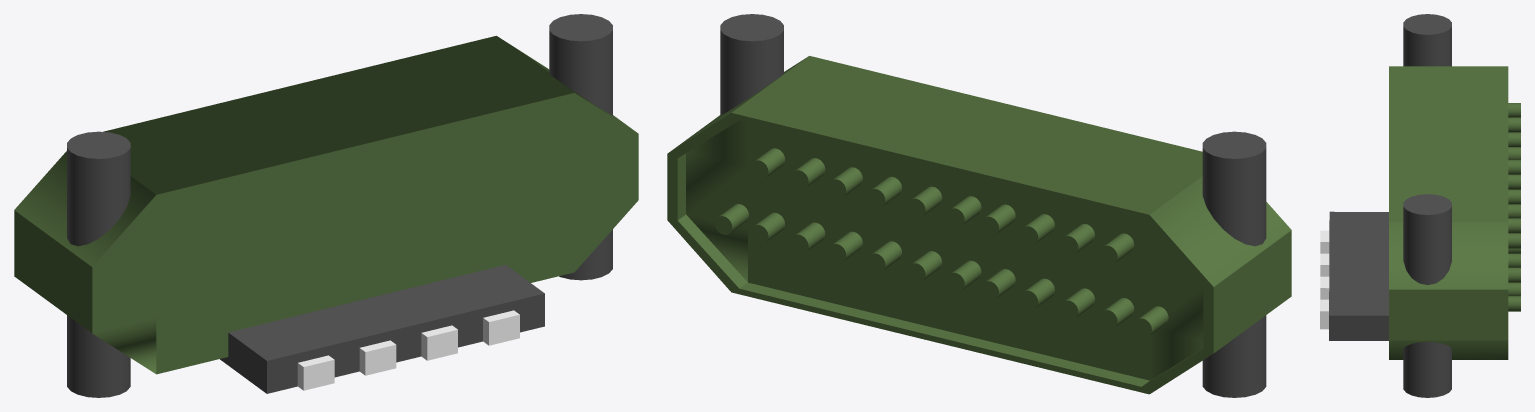
3 renders of one model, left to right at view 1: azimuth 30°, elevation 25°; view 2: azimuth 150°, elevation 25°; view 3: azimuth 270°, elevation 25°, orthographic. The views are drawn at different scales.
Visible parts, largest first — view 1: IO_1; view 2: IO_1; view 3: IO_1.
Part boxes in pixels (left/top/right/bottom): IO_1: left=14, top=14, right=638, bottom=397; IO_1: left=667, top=14, right=1291, bottom=397; IO_1: left=1320, top=14, right=1520, bottom=397.
Bounding box in the file's own units: 1639 × 685 × 681.
